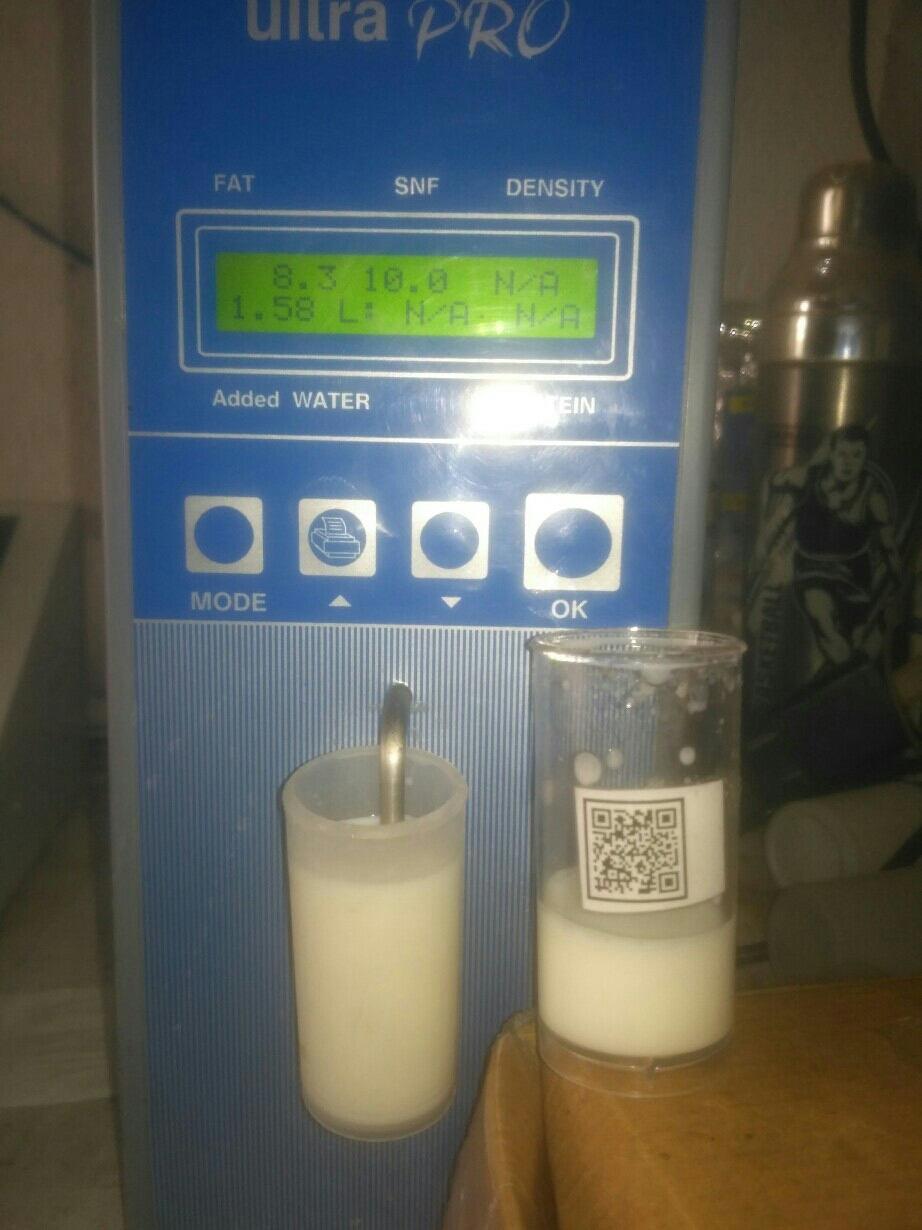lcd: (203, 235, 615, 356)
qr: (558, 786, 705, 920)
